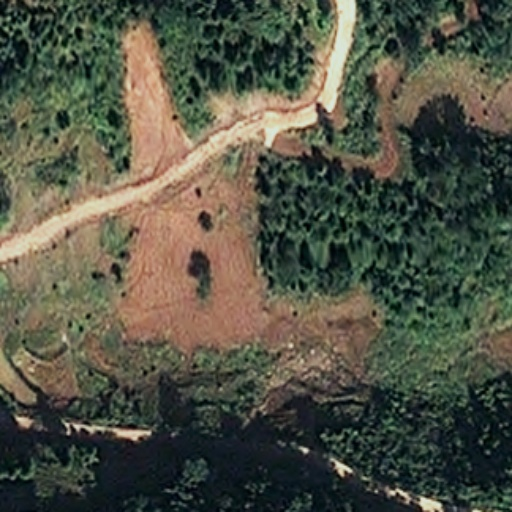landslide: (122, 21, 275, 350)
